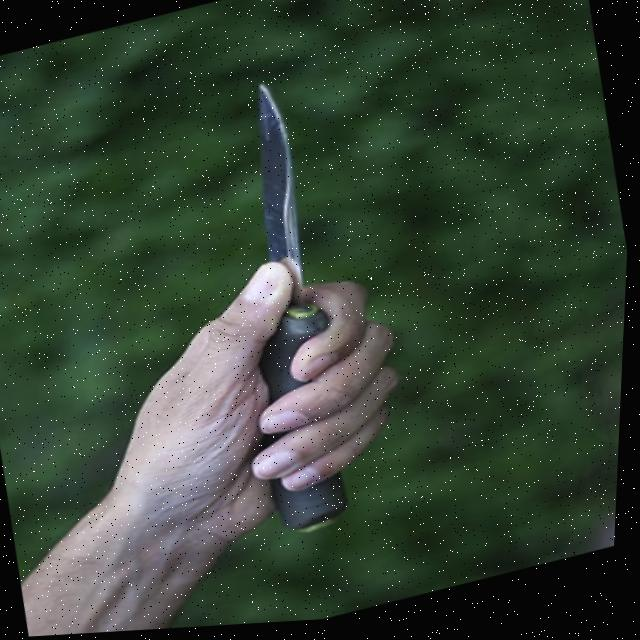knife: (206, 61, 329, 276)
